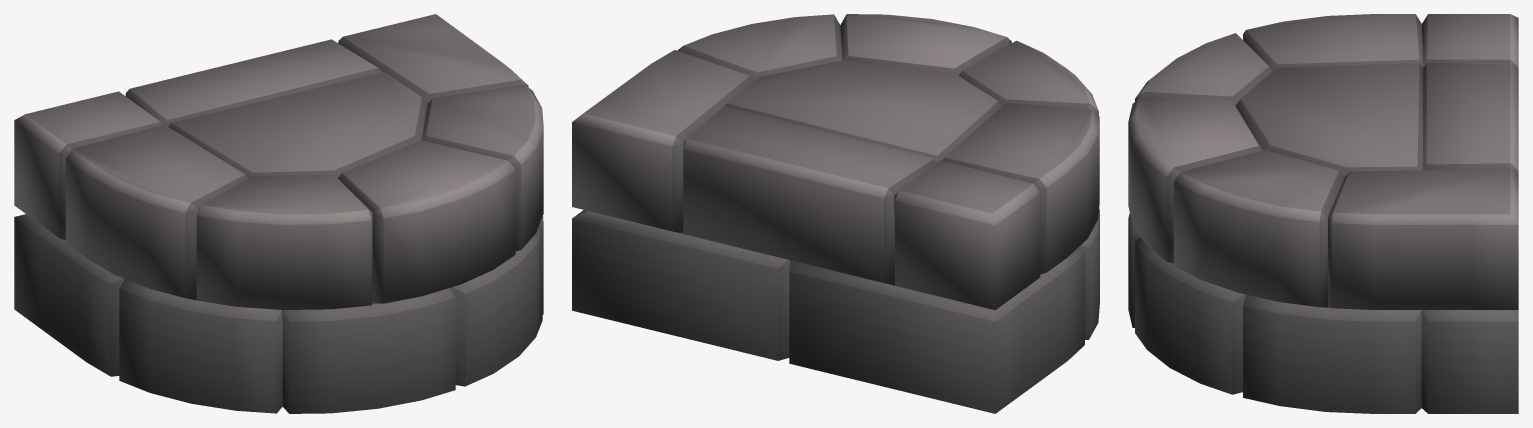
File: elf_stone_base_high.fbx
The picture shows the model from 3 angles, left to right: view 1: azimuth 30°, elevation 25°; view 2: azimuth 150°, elevation 25°; view 3: azimuth 270°, elevation 25°; orthographic projection.
Parts seen in each view (by area): view 1: elf_stone_base_high; view 2: elf_stone_base_high; view 3: elf_stone_base_high.
Boxes of the visible parts, x1=… form: elf_stone_base_high: x1=14, y1=14, x2=543, y2=413; elf_stone_base_high: x1=572, y1=14, x2=1099, y2=413; elf_stone_base_high: x1=1128, y1=14, x2=1518, y2=413.
Size of the model in its own units: 379 by 169 by 301.
